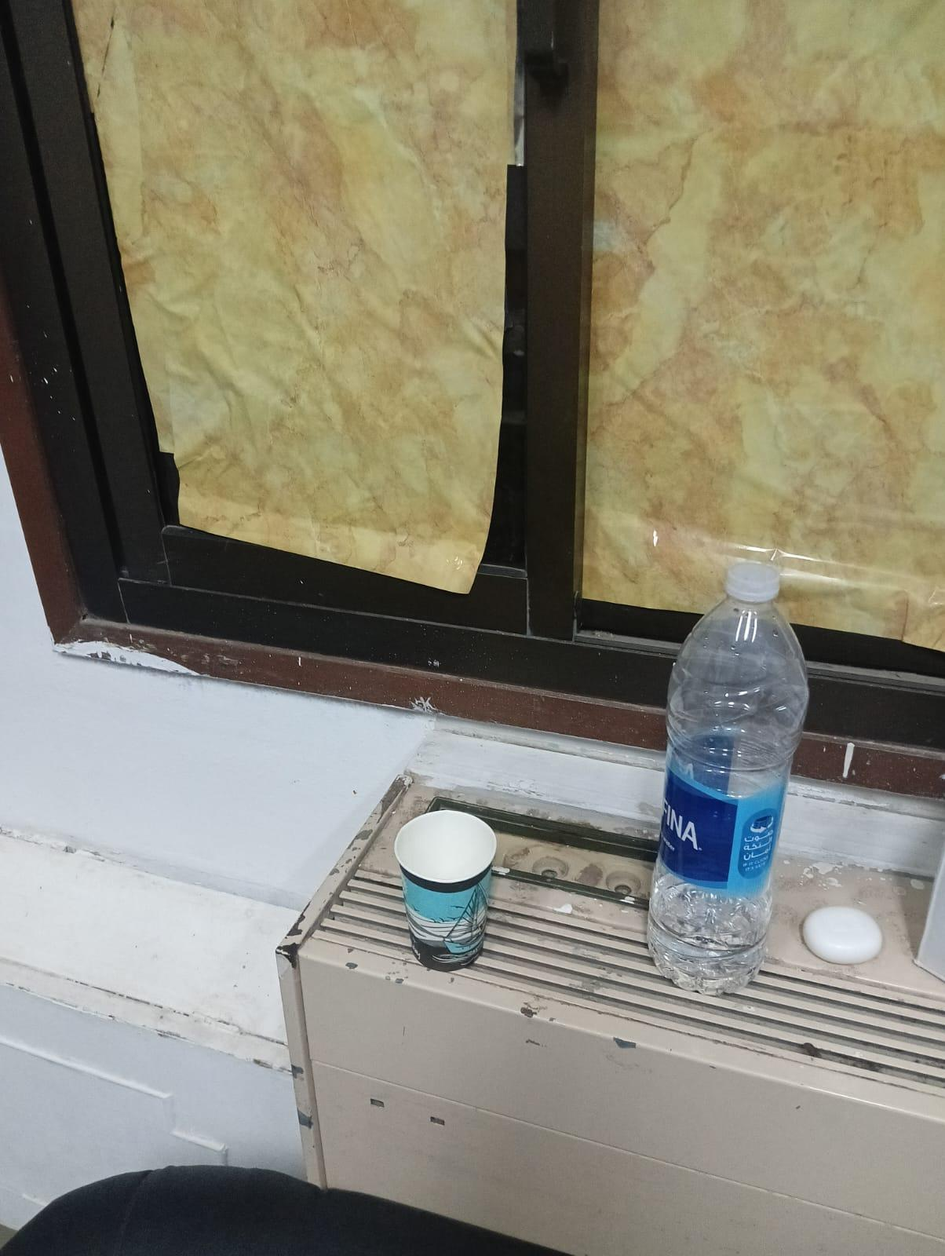cup: (641, 553, 800, 992), (394, 810, 496, 969), (395, 809, 495, 883)
